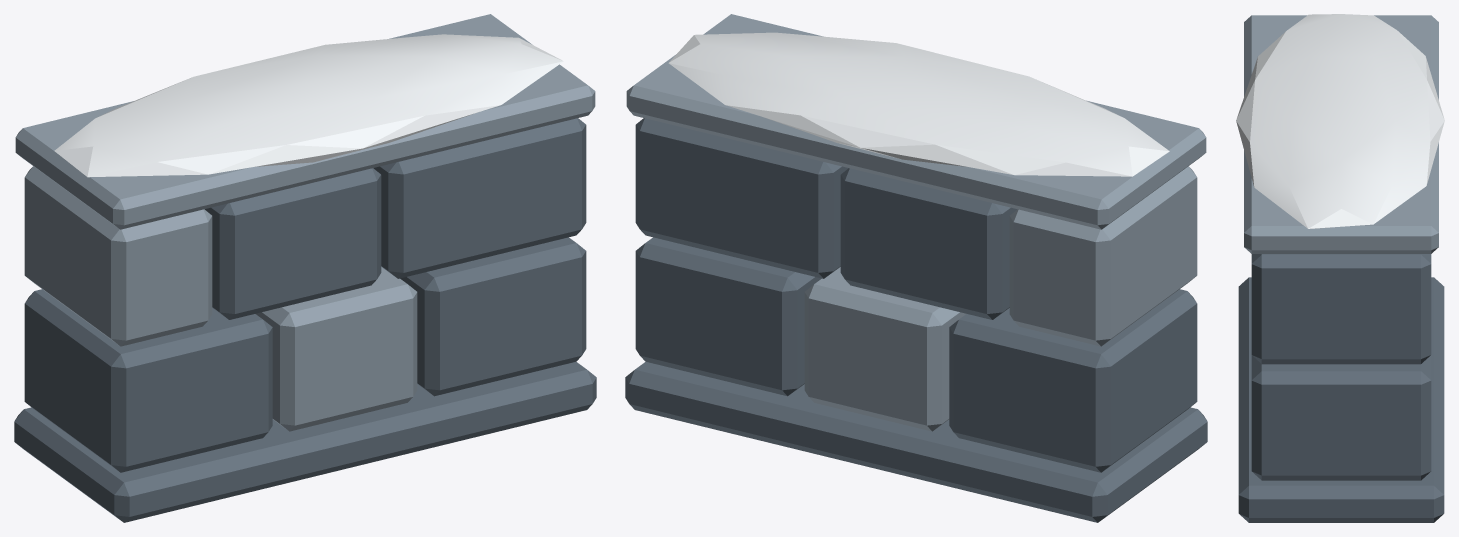
Rendered from Wall_Ridge.fbx.
3 renders of one model, left to right at view 1: azimuth 30°, elevation 25°; view 2: azimuth 150°, elevation 25°; view 3: azimuth 270°, elevation 25°, orthographic. The views are drawn at different scales.
Visible parts, largest first — view 1: Wall_Ridge; view 2: Wall_Ridge; view 3: Wall_Ridge.
Part boxes in pixels (x1,y1,x2,y2): Wall_Ridge: (14,14,596,522); Wall_Ridge: (625,14,1207,522); Wall_Ridge: (1236,14,1444,522).
Size of the model in its own units: 2 by 1.37 by 0.8127.
